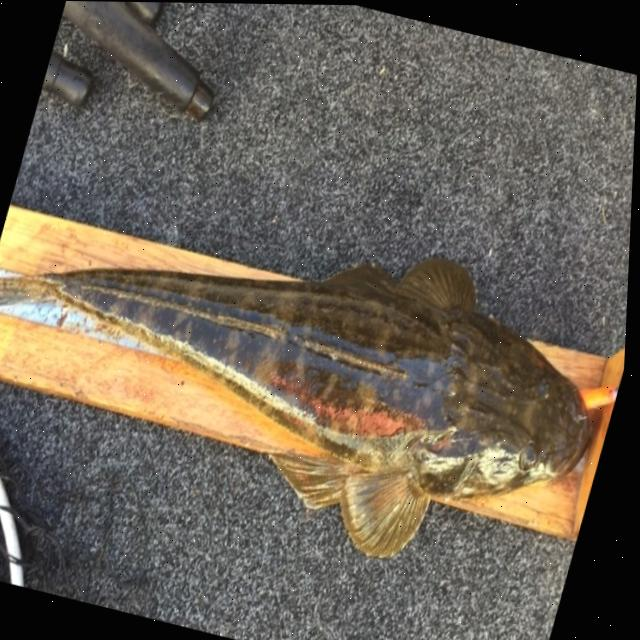Flathead: (0, 130, 635, 610)
